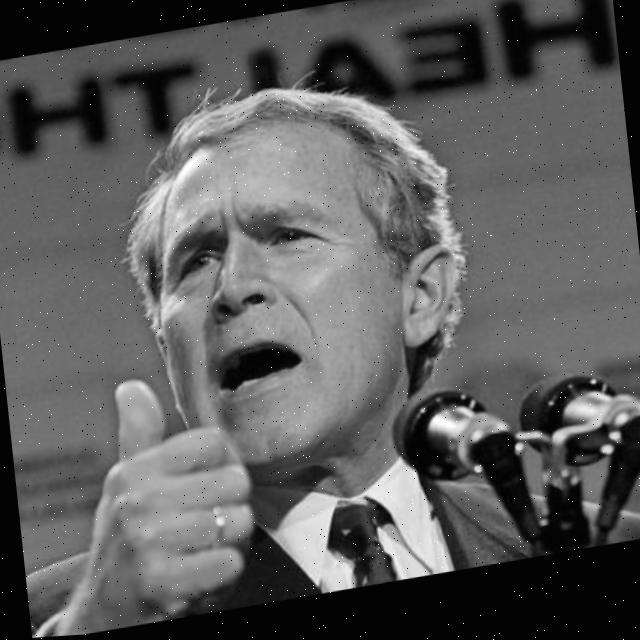face: (123, 98, 427, 483)
